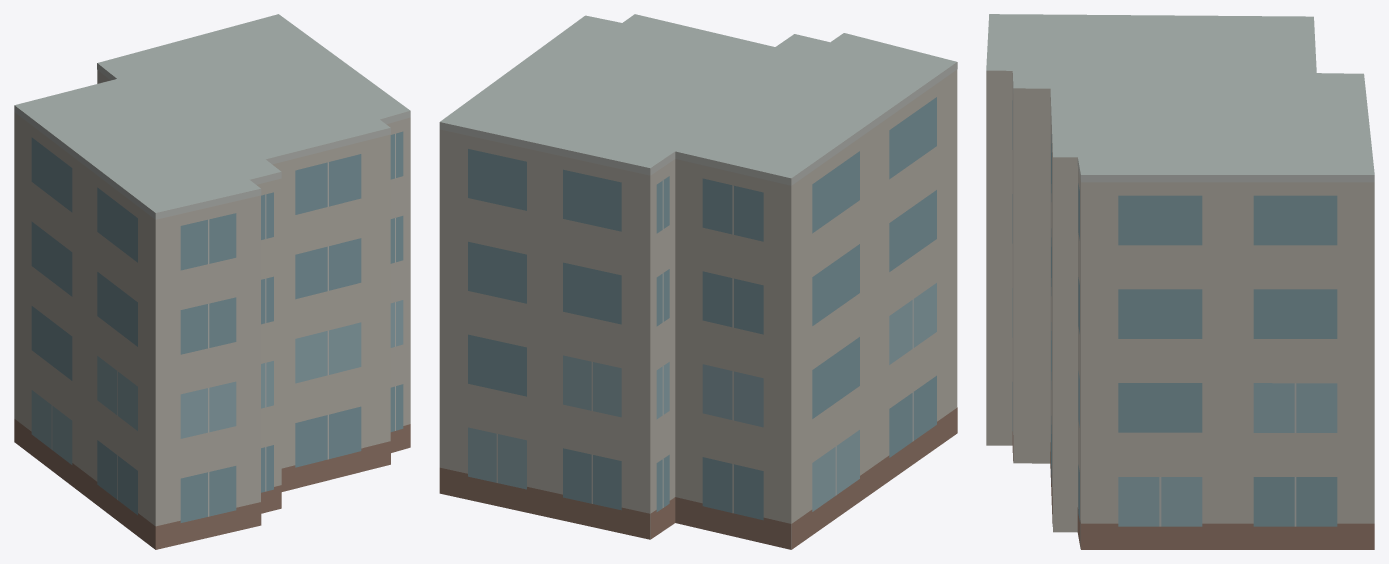
Rendered from survey-upis-32671018.glb.
3 views of the same model, side by side, from view 1: azimuth 30°, elevation 25°; view 2: azimuth 150°, elevation 25°; view 3: azimuth 270°, elevation 25° (orthographic). The views are drawn at different scales.
Parts seen in each view (by area): view 1: survey-upis-32671018.tmp; view 2: survey-upis-32671018.tmp; view 3: survey-upis-32671018.tmp.
Part boxes in pixels (<box>): survey-upis-32671018.tmp: <box>14,14,410,549</box>; survey-upis-32671018.tmp: <box>439,14,957,549</box>; survey-upis-32671018.tmp: <box>986,14,1374,549</box>.
Size of the model in its own units: 11.24 by 12.2 by 11.47.
